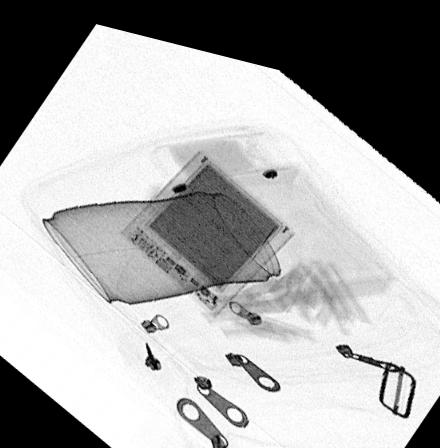Powerbank: (119, 140, 295, 309)
